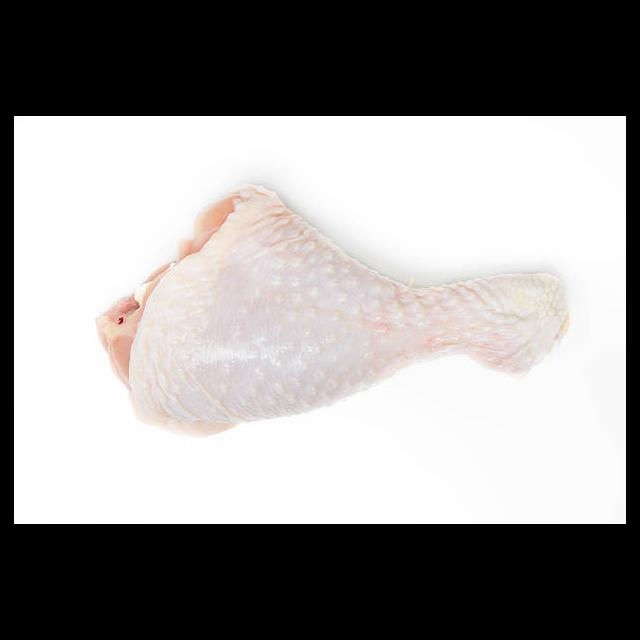chicken: (96, 185, 571, 438)
